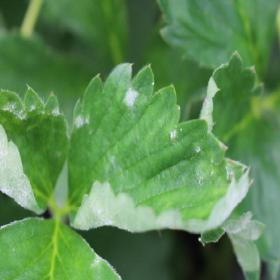Powdery Mildew Leaf: (67, 62, 254, 234), (0, 83, 72, 215), (0, 216, 122, 279), (199, 48, 265, 143)
